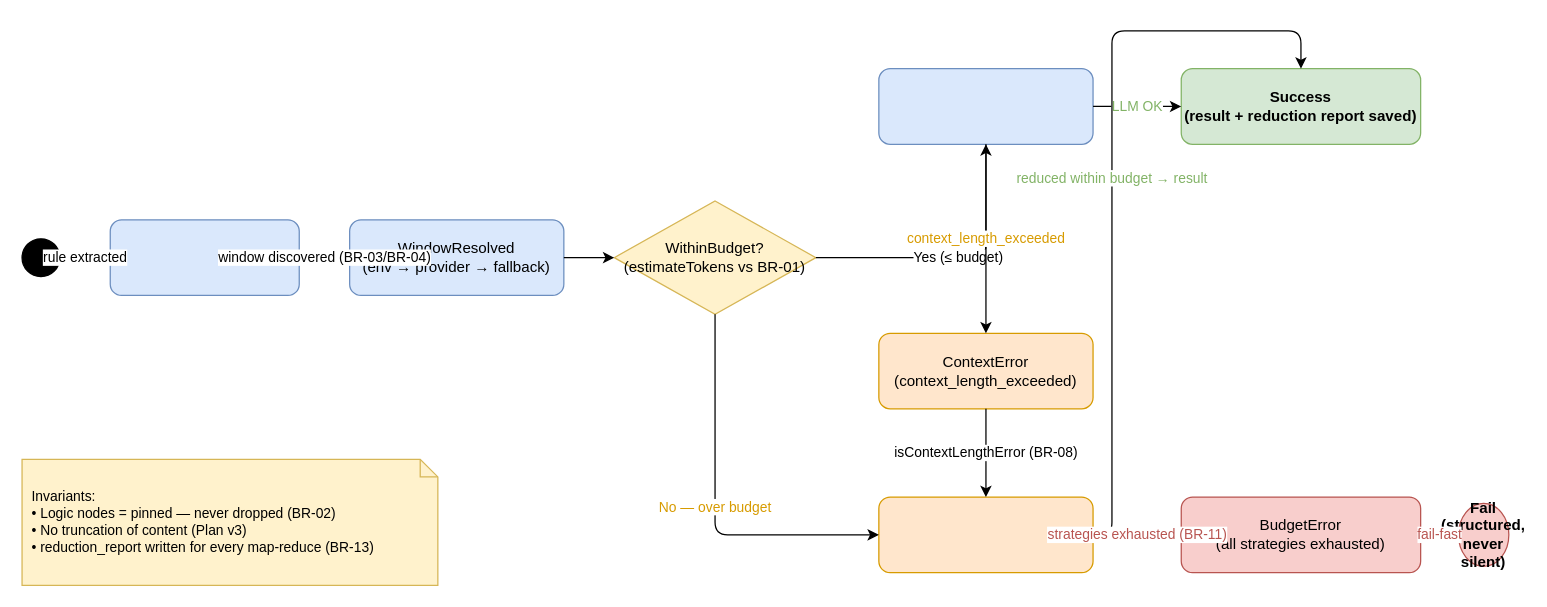
The diagram is 1547 pixels wide and 607 high, and some of its shapes have lost their labels. The box of each missing label's shape, as (x1, y1, x2, y2) in pixels:
DigestBuilt (AST digest ready): (109, 219, 299, 295)
MapReduce (split AST sections + tree reduce): (878, 496, 1093, 573)
PromptSent (digest + schemaContext): (878, 67, 1093, 144)
